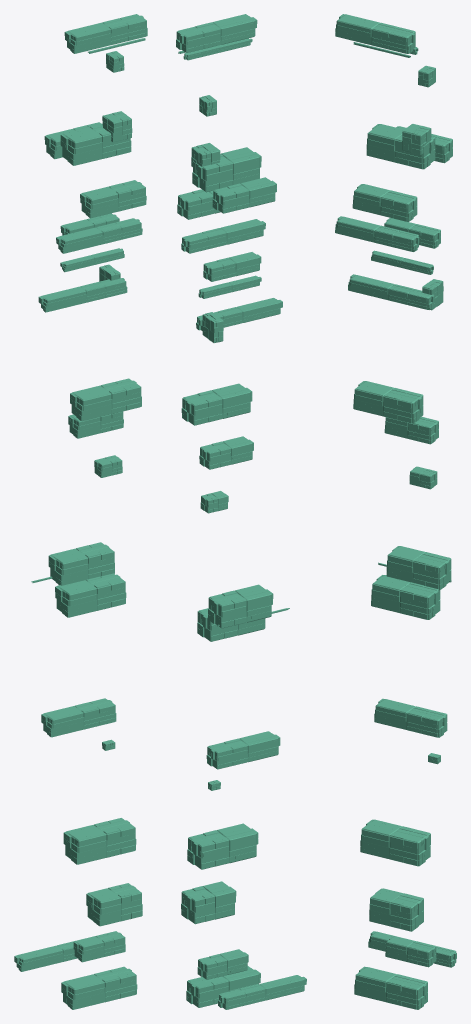
Rendered from Branches.fbx.
3 views of the same model, side by side, from view 1: azimuth 30°, elevation 25°; view 2: azimuth 210°, elevation 25°; view 3: azimuth 330°, elevation 25° (orthographic). The views are drawn at different scales.
Parts seen in each view (by area): view 1: Forest001; view 2: Forest001; view 3: Forest001.
Part boxes in pixels (x1,y1,x2,y2): Forest001: (14,14,147,1009); Forest001: (176,14,306,1009); Forest001: (335,14,456,1009).
Size of the model in its own units: 6903 by 76143 by 7021.
